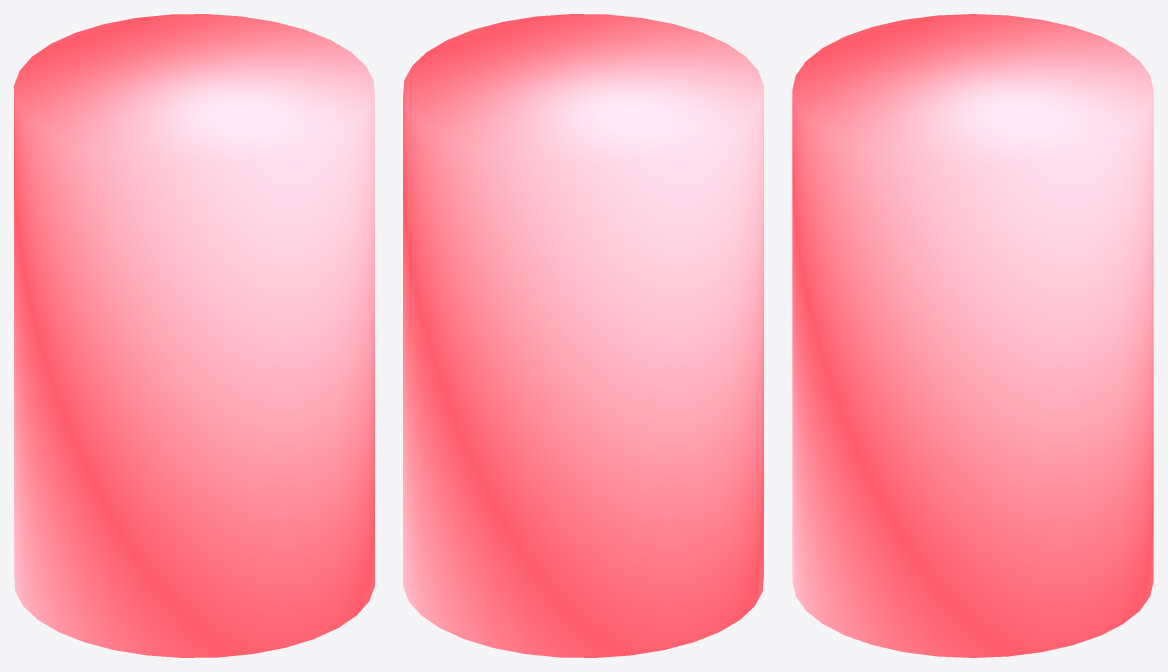
The model's file is thief.glb.
3 views of the same model, side by side, from view 1: azimuth 30°, elevation 25°; view 2: azimuth 150°, elevation 25°; view 3: azimuth 270°, elevation 25° (orthographic).
Visible parts, largest first — view 1: Cylinder.001; view 2: Cylinder.001; view 3: Cylinder.001.
Part boxes in pixels (x1,y1,x2,y2): Cylinder.001: (14,14,374,657); Cylinder.001: (403,14,763,657); Cylinder.001: (792,14,1153,657).
Bounding box in the file's own units: 1 × 1.5 × 1.
